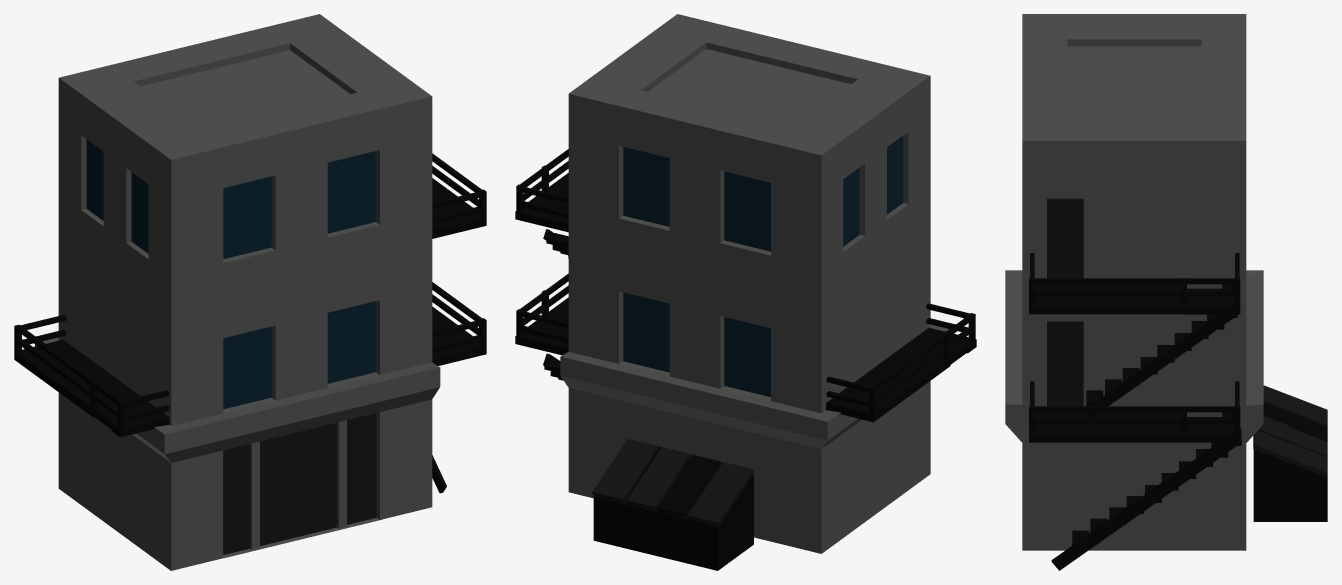
Rendered from BuildingA_02.fbx.
The picture shows the model from 3 angles, left to right: view 1: azimuth 30°, elevation 25°; view 2: azimuth 150°, elevation 25°; view 3: azimuth 270°, elevation 25°; orthographic projection. The views are drawn at different scales.
Visible parts, largest first — view 1: Porte.005; view 2: Porte.005; view 3: Porte.005.
Part boxes in pixels (x1,y1,x2,y2): Porte.005: (14, 14, 486, 570); Porte.005: (515, 14, 976, 570); Porte.005: (1005, 14, 1327, 570).
Size of the model in its own units: 2256 by 2442 by 1717.
